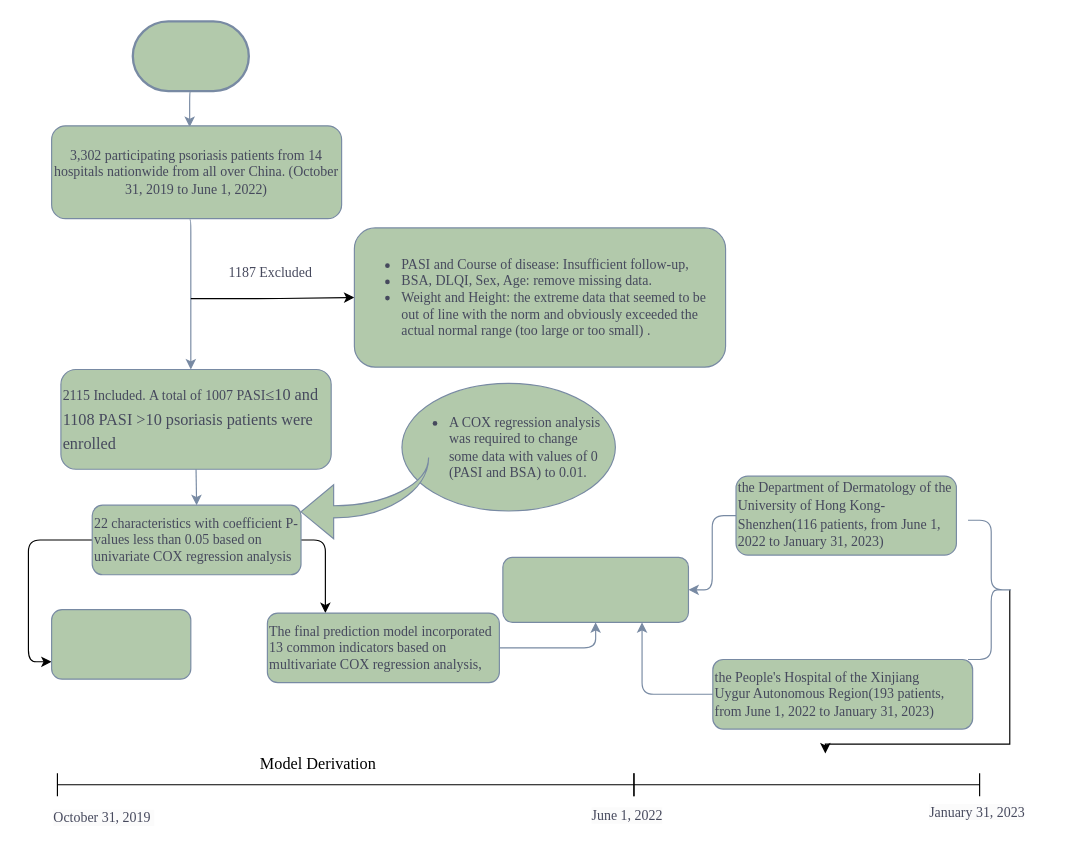
This 1075x864 diagram has some shape labels left out. The centre of each missing label's shape, as x and y in pixels:
Performance of the PASI Risk Nomogram using COX analysis: the point at 595,589
Study Population: the point at 190,56
the characteristics for which P values higher than 0.05 were excluded.: the point at 120,643
Validation Cohort: the point at 806,784
